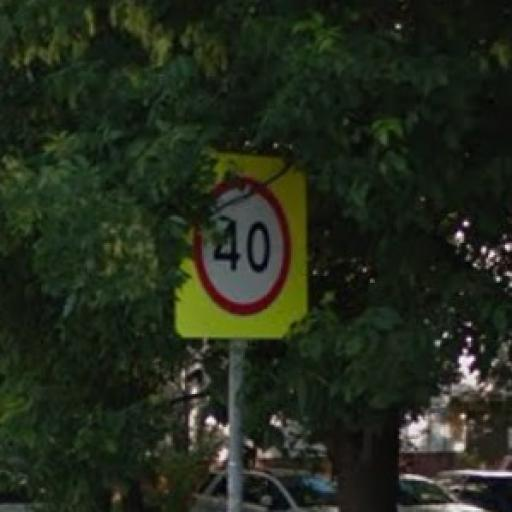traffic_sign: (193, 176, 294, 319)
